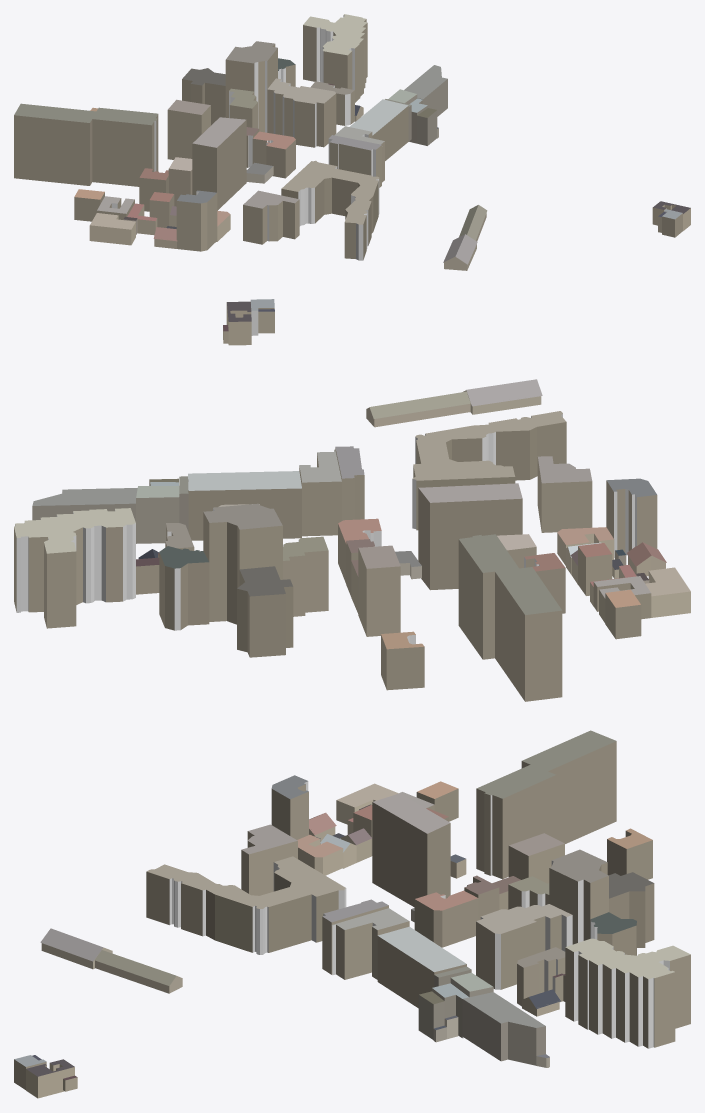
The picture shows the model from 3 angles, top to bottom: view 1: azimuth 30°, elevation 25°; view 2: azimuth 150°, elevation 25°; view 3: azimuth 270°, elevation 25°; orthographic projection. The views are drawn at different scales.
Parts seen in each view (by area): view 1: tuile; view 2: tuile; view 3: tuile.
Boxes of the visible parts, <box> form: tuile: <box>14,14,690,270</box>; tuile: <box>14,299,690,701</box>; tuile: <box>14,730,690,1098</box>.
Size of the model in its own units: 255 by 38.79 by 250.
